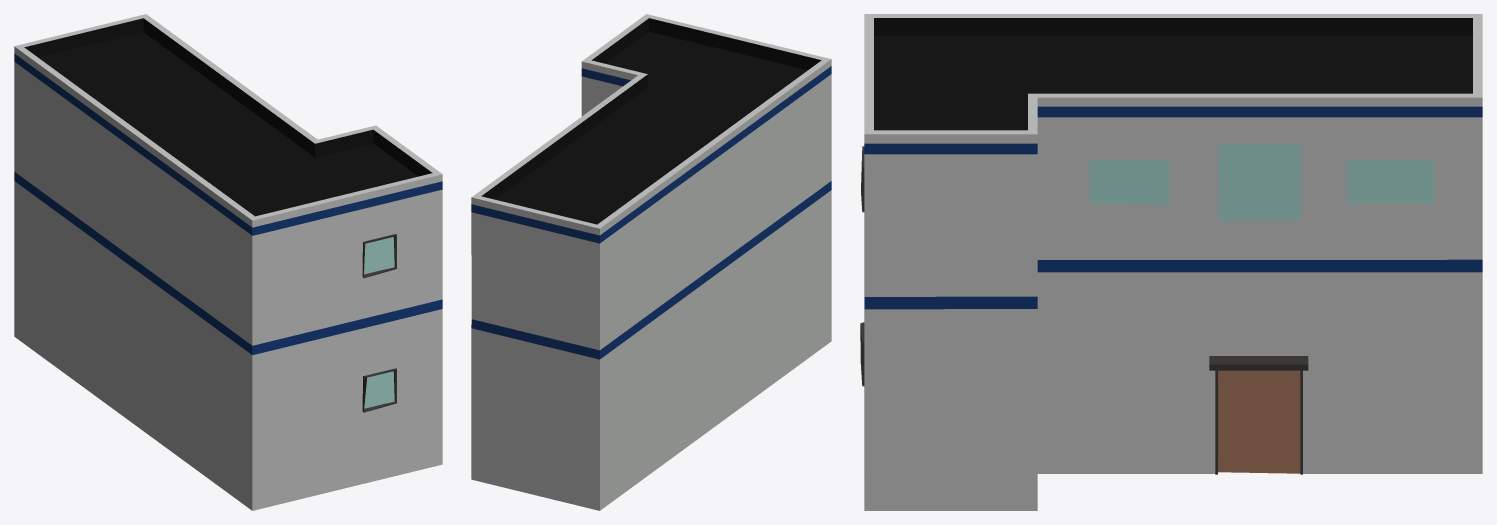
Rendered from SM_Factory_Administration_02.glb.
3 views of the same model, side by side, from view 1: azimuth 30°, elevation 25°; view 2: azimuth 150°, elevation 25°; view 3: azimuth 270°, elevation 25° (orthographic). The views are drawn at different scales.
Visible parts, largest first — view 1: SM_Factory_Administration_02; view 2: SM_Factory_Administration_02; view 3: SM_Factory_Administration_02.
Part boxes in pixels (<box>): SM_Factory_Administration_02: <box>14,14,442,510</box>; SM_Factory_Administration_02: <box>471,14,831,510</box>; SM_Factory_Administration_02: <box>860,14,1482,510</box>.
Size of the model in its own units: 5.77 by 8.4 by 12.59.
Materials: 1 (1 with a texture image).
